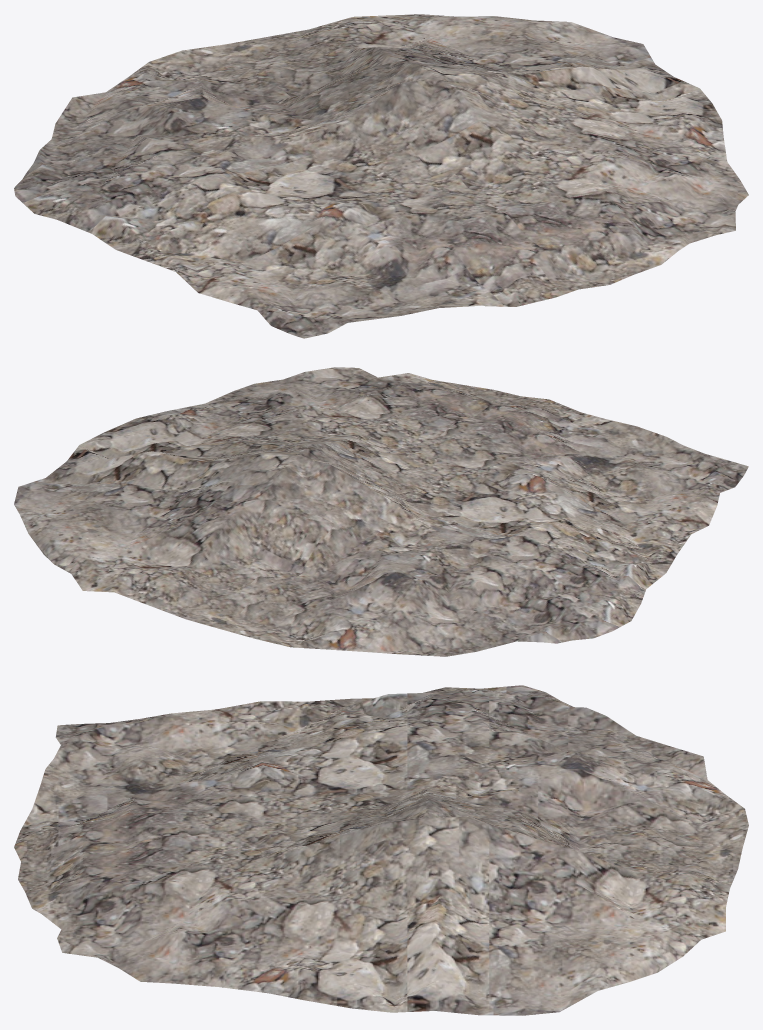
The model's file is RubPile4.FBX.
3 renders of one model, top to bottom at view 1: azimuth 30°, elevation 25°; view 2: azimuth 150°, elevation 25°; view 3: azimuth 270°, elevation 25°, orthographic. The views are drawn at different scales.
Visible parts, largest first — view 1: Plane01; view 2: Plane01; view 3: Plane01.
Part boxes in pixels (<box>): Plane01: <box>14,14,748,338</box>; Plane01: <box>14,367,748,656</box>; Plane01: <box>14,685,748,1015</box>.
Size of the model in its own units: 11.35 by 1.14 by 10.69.
